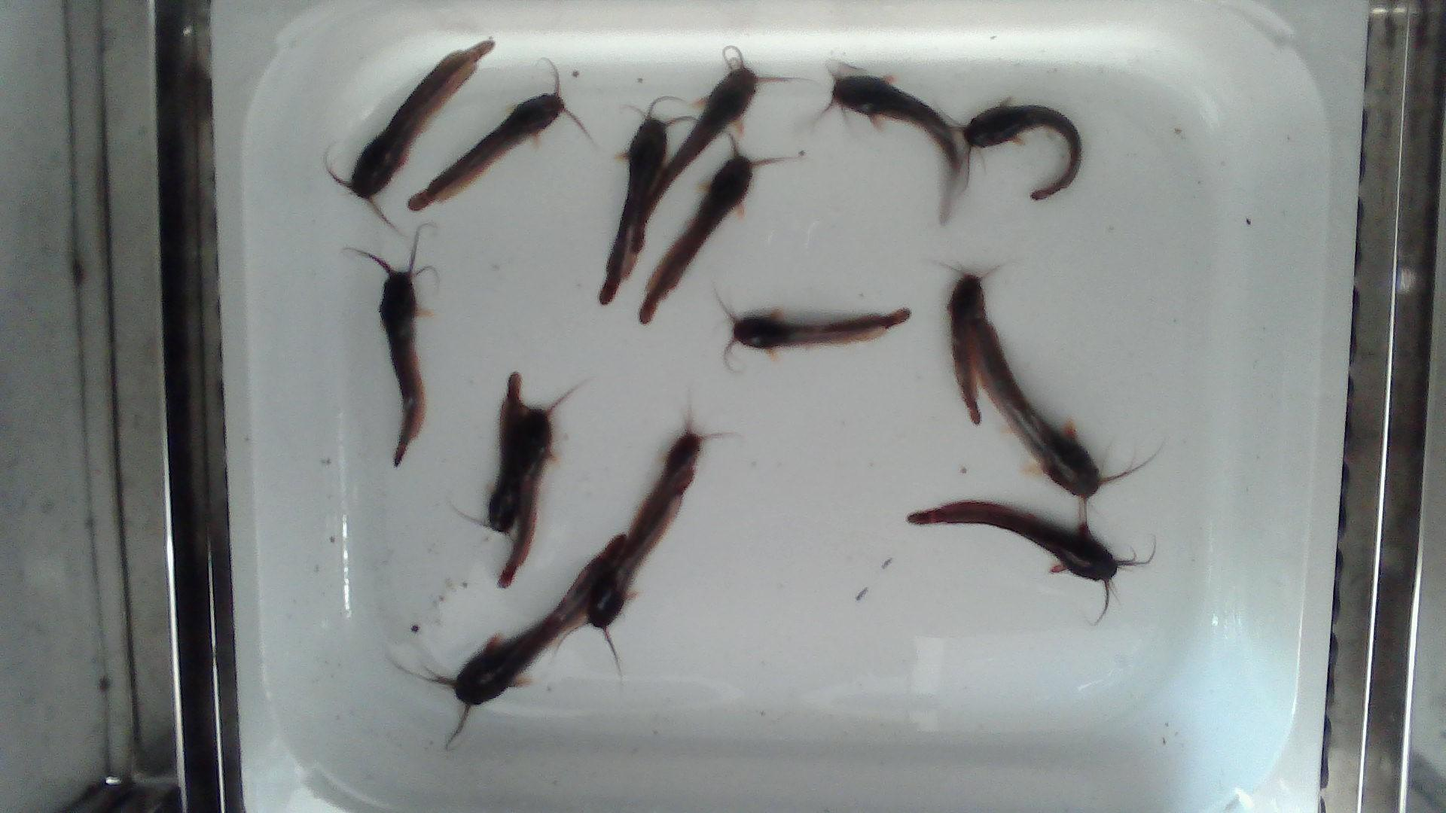lele: (392, 530, 627, 752), (972, 289, 1164, 523), (328, 41, 494, 227), (555, 467, 696, 679), (408, 61, 581, 210), (832, 75, 969, 221), (640, 149, 754, 322), (626, 393, 740, 558), (499, 384, 589, 589), (907, 501, 1133, 581), (353, 239, 425, 465), (655, 51, 758, 193), (452, 372, 525, 544), (599, 119, 667, 303), (936, 260, 1005, 425), (964, 105, 1081, 199), (731, 309, 910, 349)
